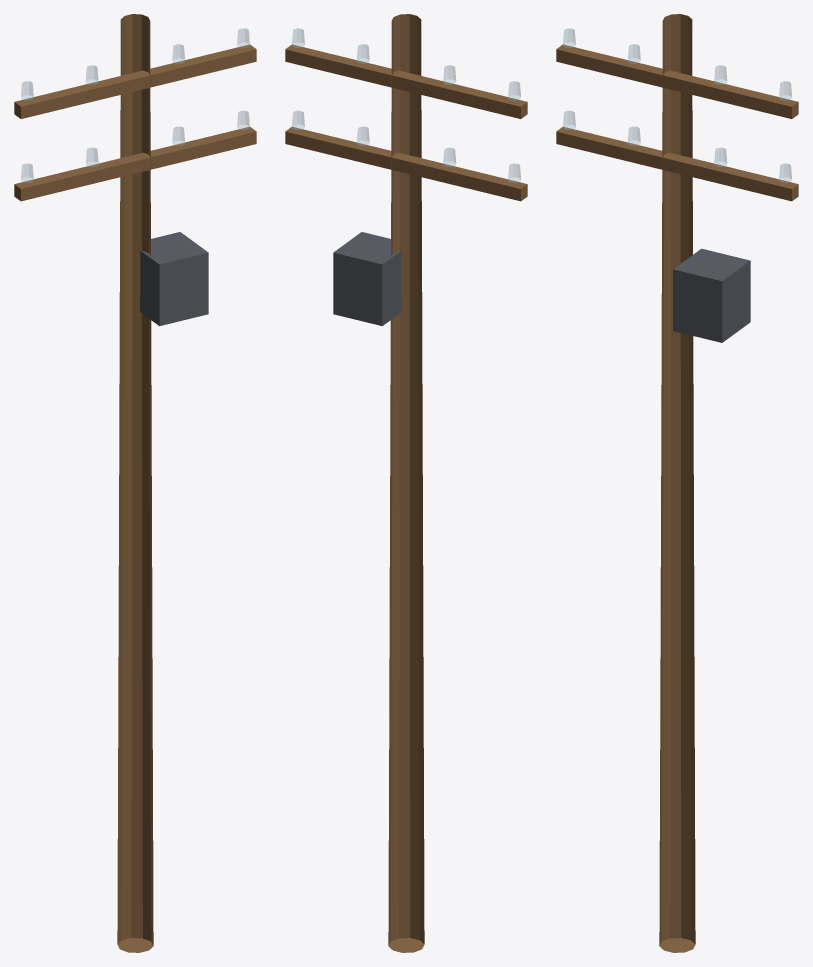
Rendered from utilitypole.glb.
The picture shows the model from 3 angles, left to right: view 1: azimuth 30°, elevation 25°; view 2: azimuth 150°, elevation 25°; view 3: azimuth 330°, elevation 25°; orthographic projection.
Parts seen in each view (by area): view 1: utilitypole; view 2: utilitypole; view 3: utilitypole.
Boxes of the visible parts, box(x1,y1,x2,y2) form: utilitypole: box(14, 14, 256, 952); utilitypole: box(285, 14, 527, 952); utilitypole: box(556, 14, 798, 952).
Bounding box in the file's own units: 2.4 × 9 × 0.5.
